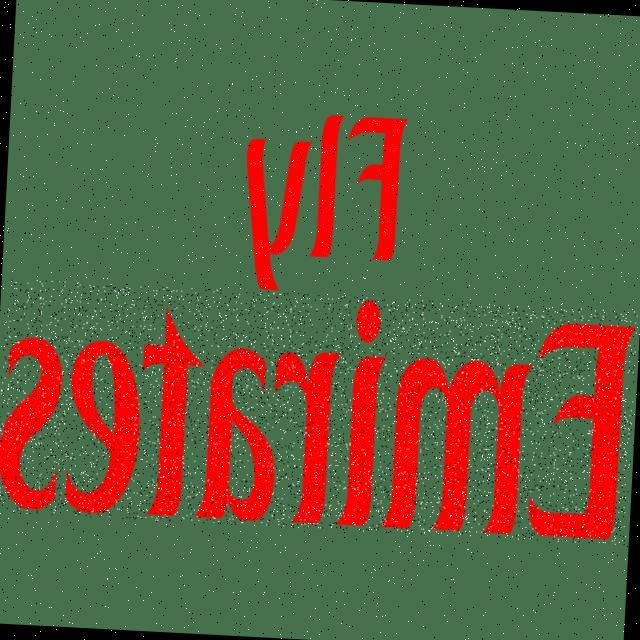Emirates: (0, 278, 637, 545)
